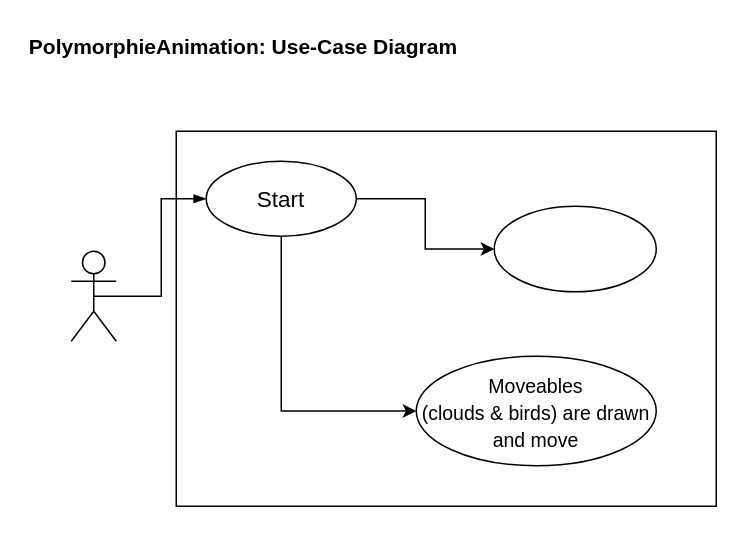
This 743x533 diagram has some shape labels left out. Here are the shapes that lost their labels. From the top down, the centre of each, then its label:
At point 574,248: "Static elements are drawn".
At point 93,295: "User".
